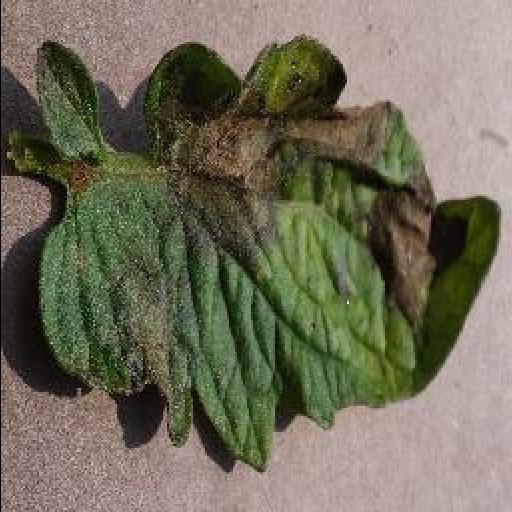disease_tomato: (31, 36, 501, 478)
